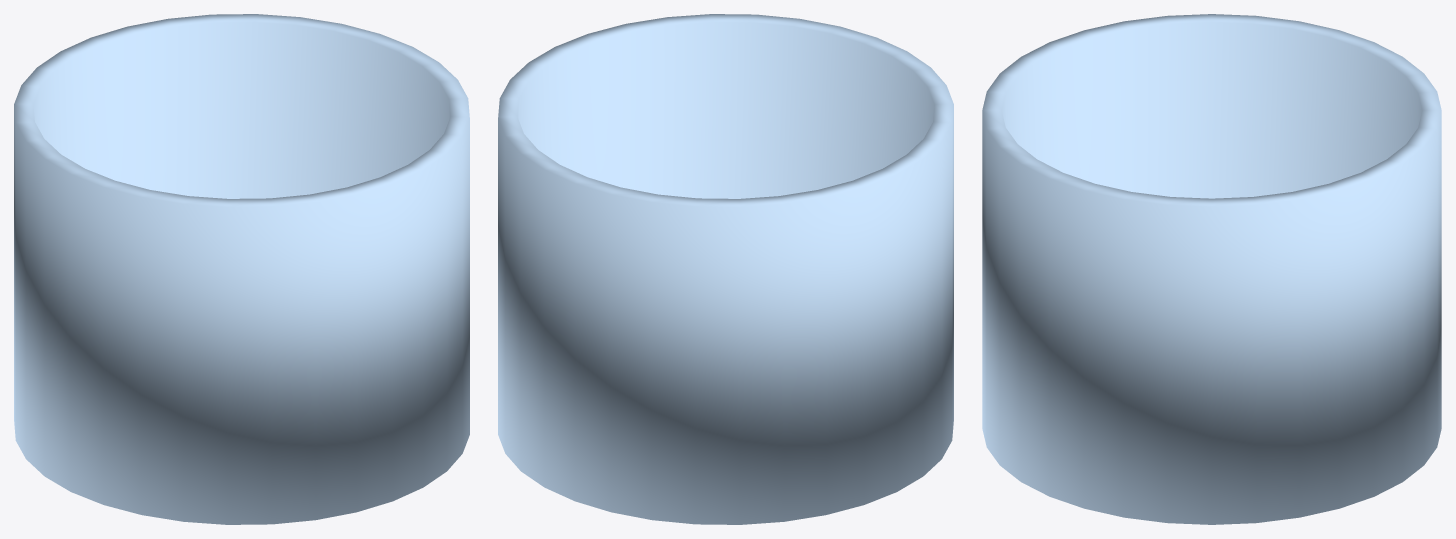
The model's file is GlassV4.fbx.
3 views of the same model, side by side, from view 1: azimuth 30°, elevation 25°; view 2: azimuth 150°, elevation 25°; view 3: azimuth 270°, elevation 25° (orthographic).
Parts seen in each view (by area): view 1: Cylinder; view 2: Cylinder; view 3: Cylinder.
Boxes of the visible parts, bbox=[...] form: Cylinder: bbox=[14, 14, 469, 524]; Cylinder: bbox=[498, 14, 953, 524]; Cylinder: bbox=[982, 14, 1441, 524].
Bounding box in the file's own units: 164 × 163 × 125.
